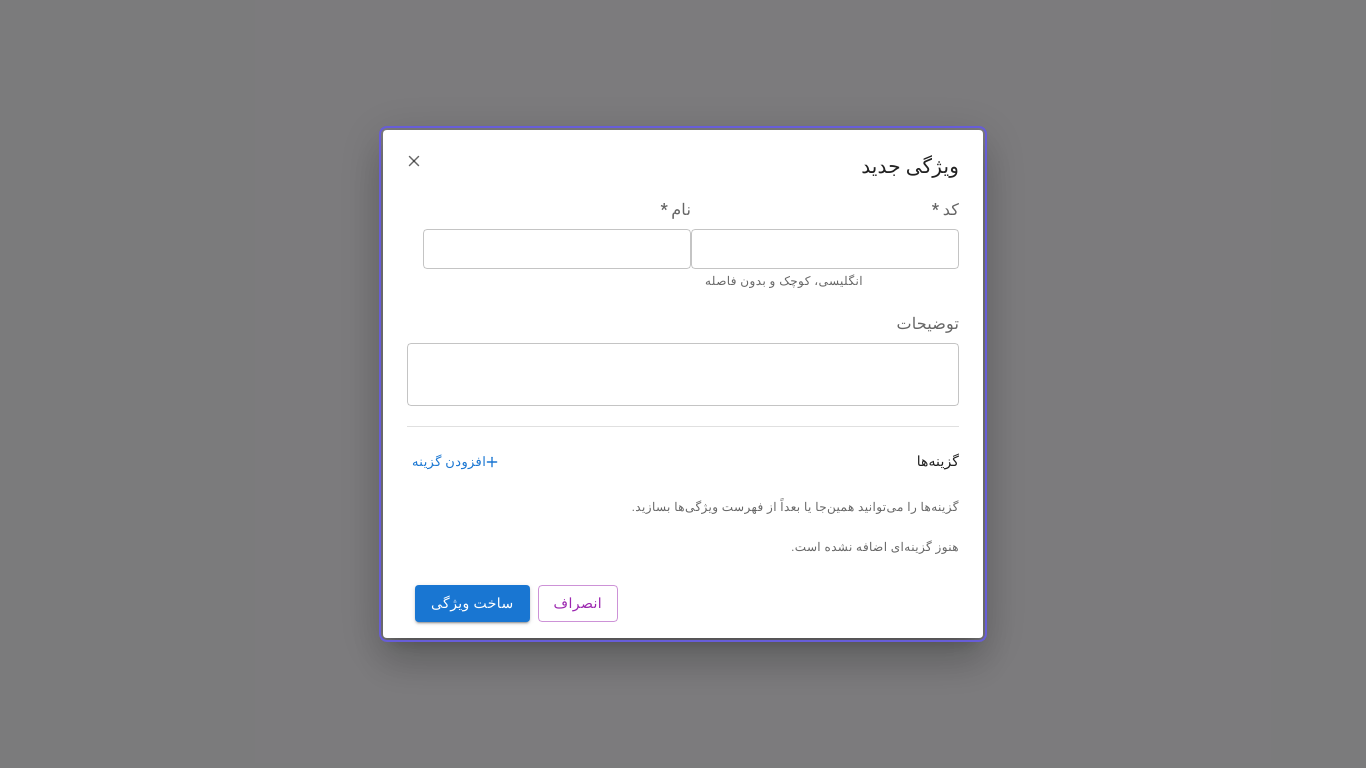
Test: AttributeDialog › rejects codes that are not a valid slug pattern
Type "Kala Rangi" into the field labelled "کد *" at (825, 249), box [691,229,959,269]
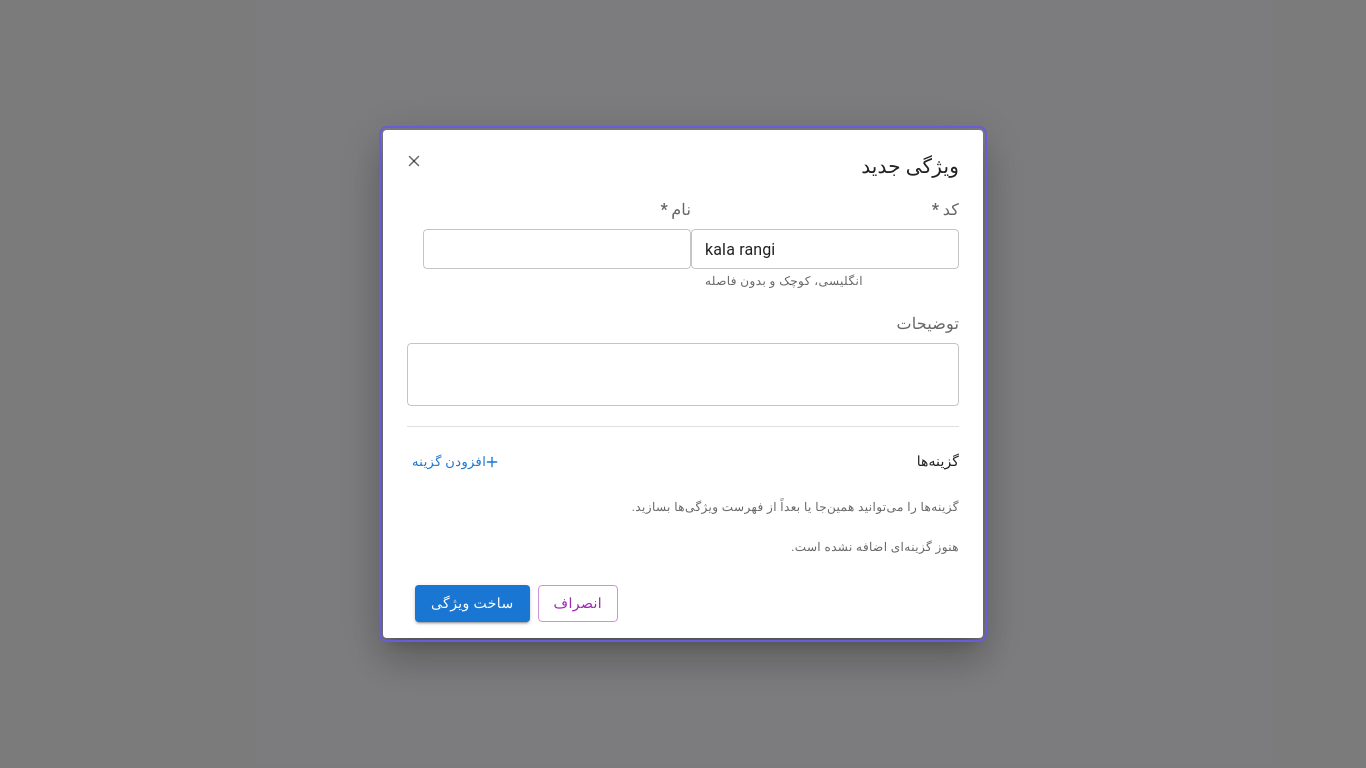
Click the button "ساخت ویژگی" at (472, 604), box [415,586,530,622]
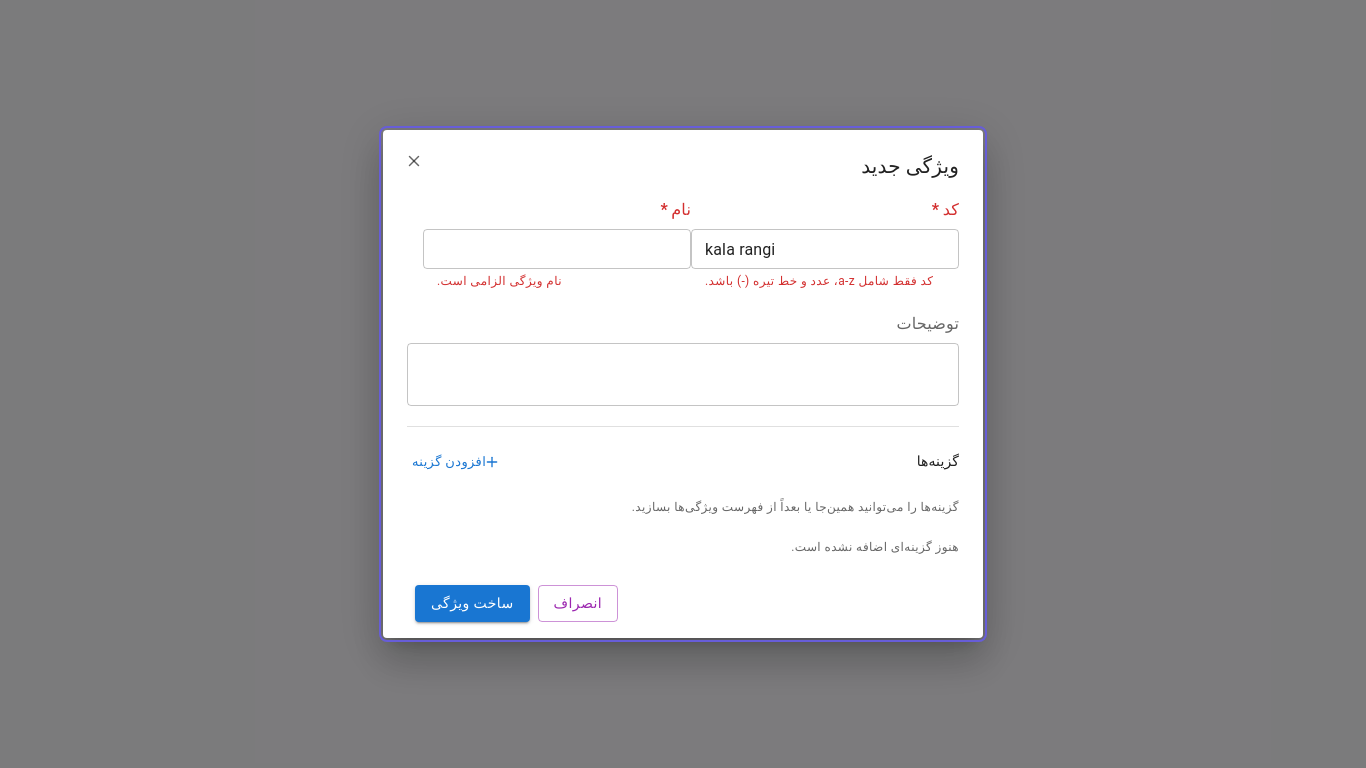
Result: the text "کد فقط شامل a-z، عدد و خط تیره (-) باشد." is shown at [705,272,945,292]
